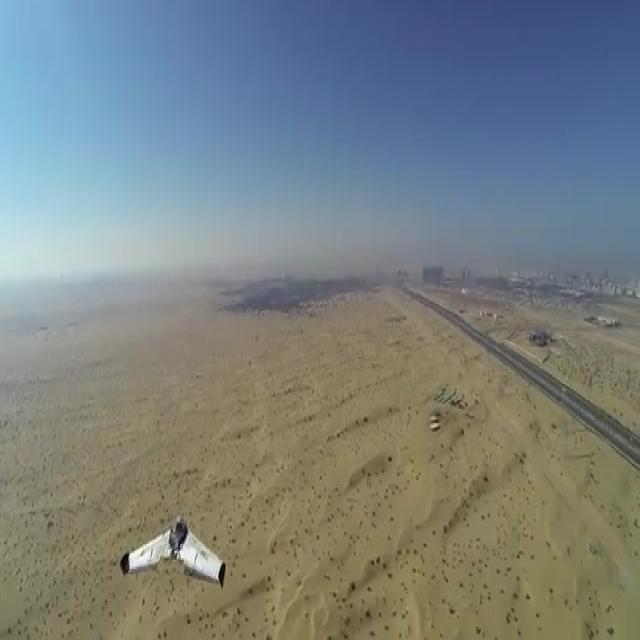iha: (150, 552, 195, 554)
